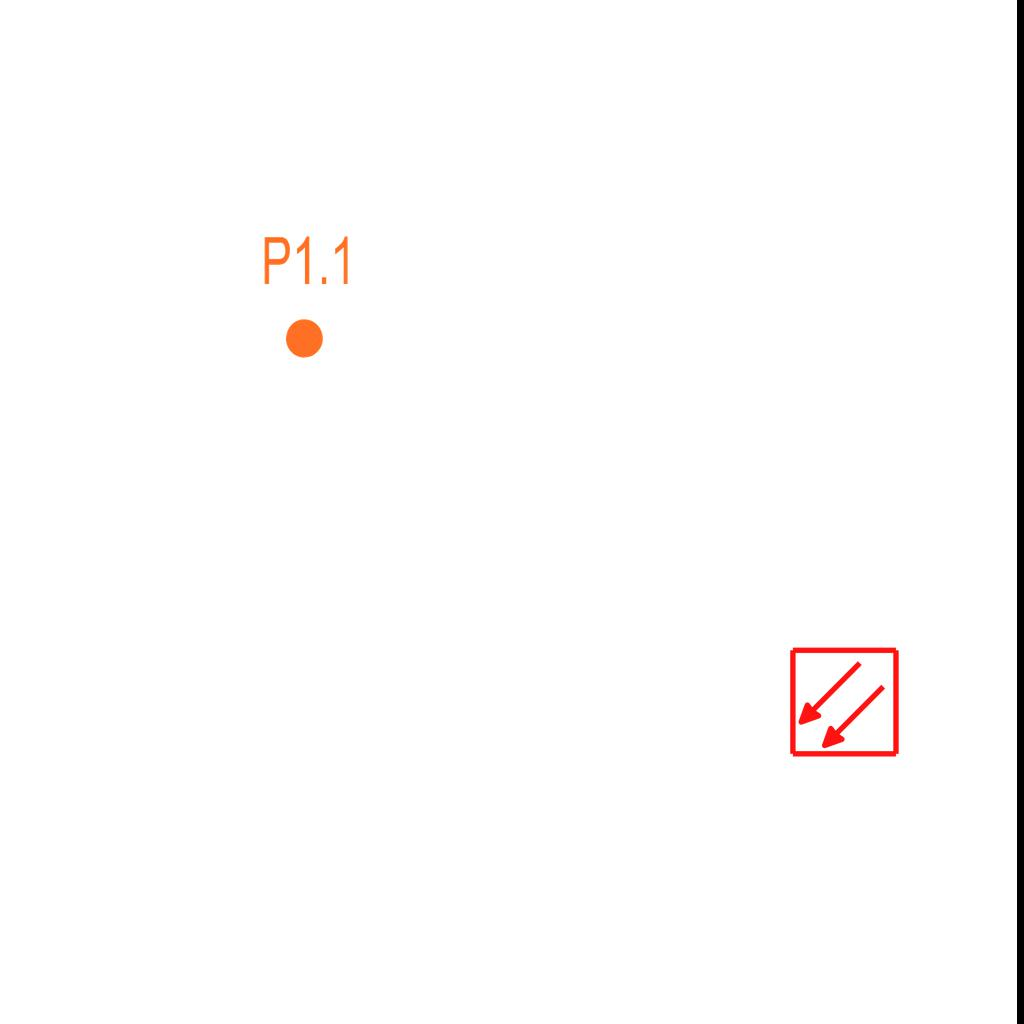Downlight_LED_Einbauleuchten_Flur: (261, 233, 354, 361)
RMO_Rauchmelder_optischer: (788, 646, 901, 759)
